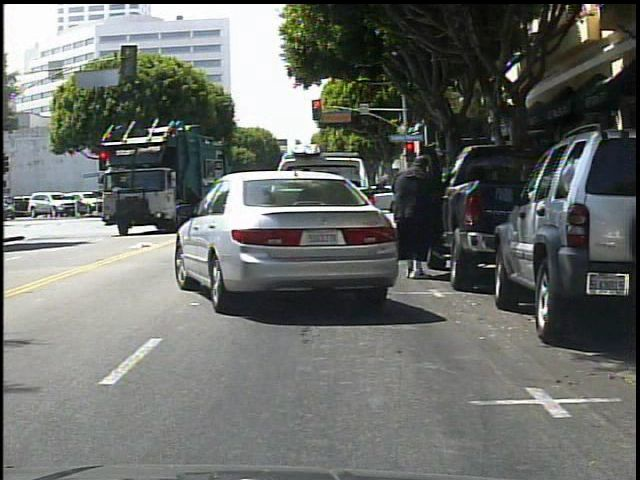person: (397, 151, 439, 282)
